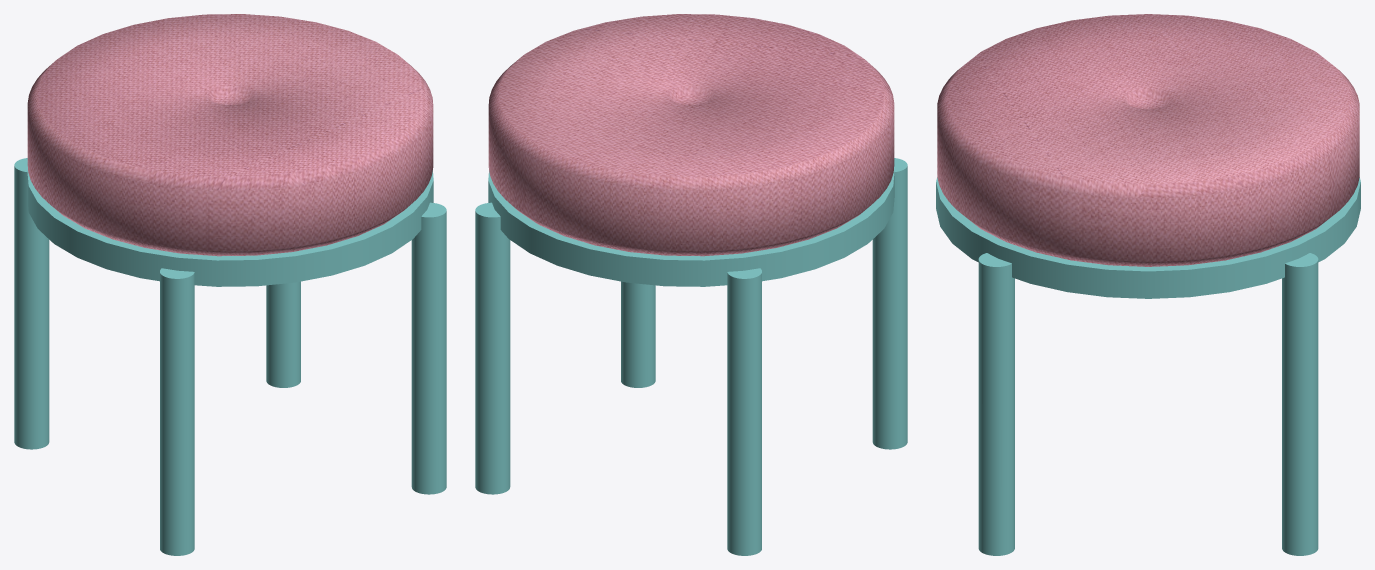
The model's file is furniture_seating_210052.glb.
3 views of the same model, side by side, from view 1: azimuth 30°, elevation 25°; view 2: azimuth 150°, elevation 25°; view 3: azimuth 270°, elevation 25° (orthographic). The views are drawn at different scales.
Visible parts, largest first — view 1: furniture_seating_210052; view 2: furniture_seating_210052; view 3: furniture_seating_210052.
Boxes of the visible parts, box(x1,y1,x2,y2) form: furniture_seating_210052: box(14, 14, 446, 555); furniture_seating_210052: box(475, 14, 907, 555); furniture_seating_210052: box(936, 14, 1360, 555).
Size of the model in its own units: 0.336 by 0.336 by 0.336.
Materials: 1 (1 with a texture image).
